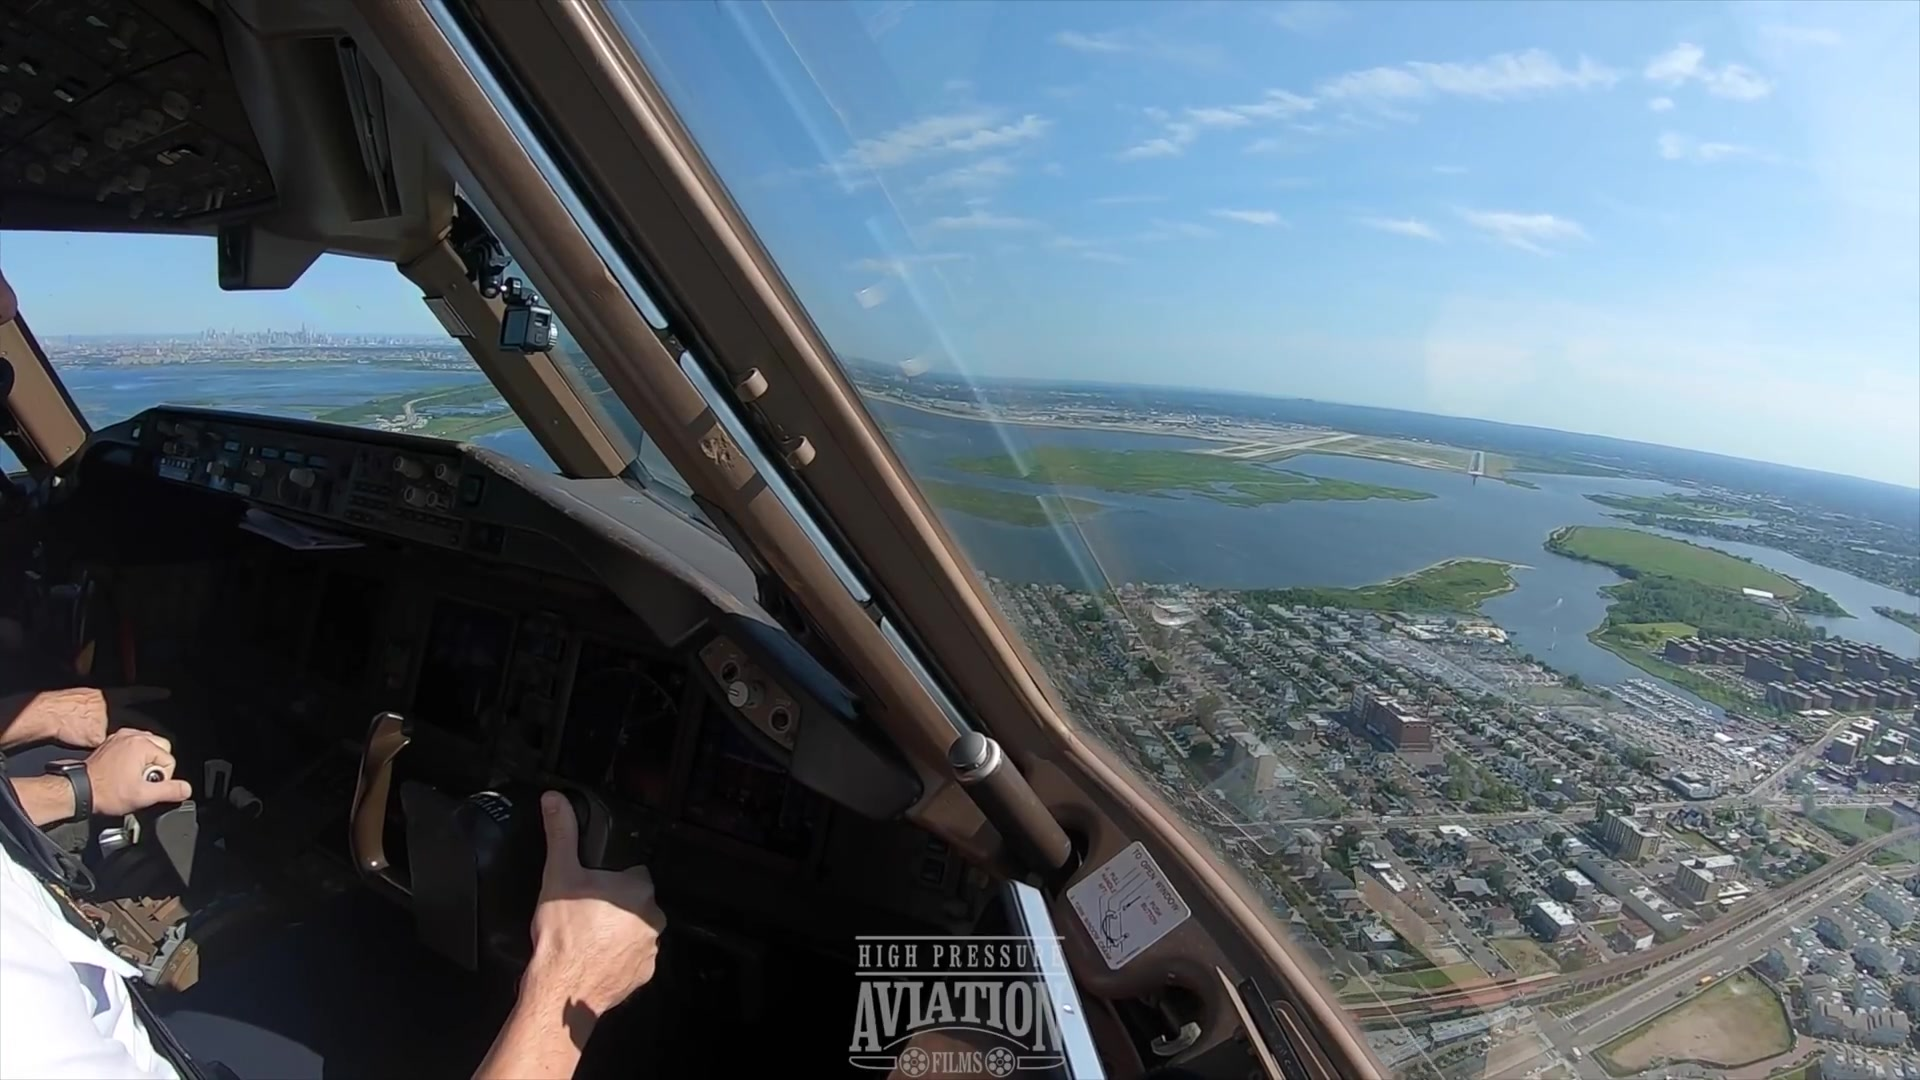runway: (1237, 433, 1360, 459), (1465, 448, 1486, 477)
